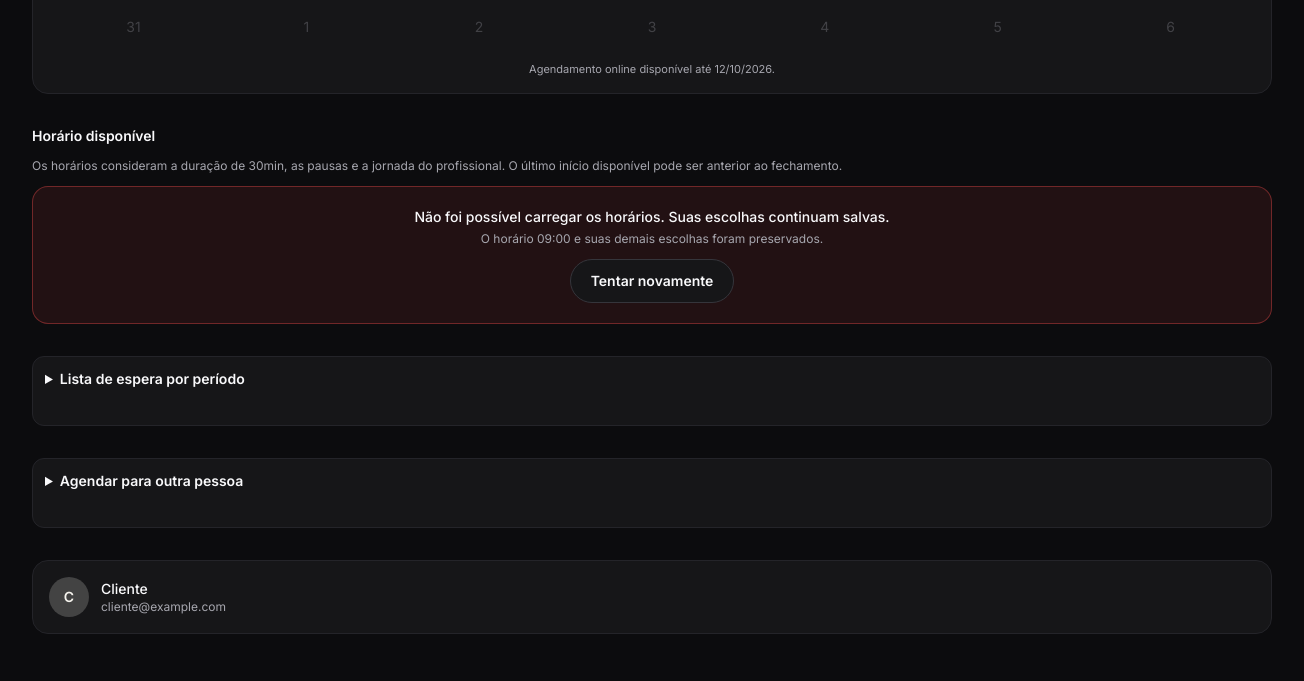
Test: BookingFlow availability › bloqueia o CTA no erro, restaura o slot salvo após retry e o remove se não estiver livre
(page scrolled)
Check: the text "O horário 09:00 e suas demais escolhas foram preservados." is shown, box [481, 231, 823, 246]
Click the button "Tentar novamente". click: [652, 281]
box: [570, 259, 734, 303]
(page scrolled)
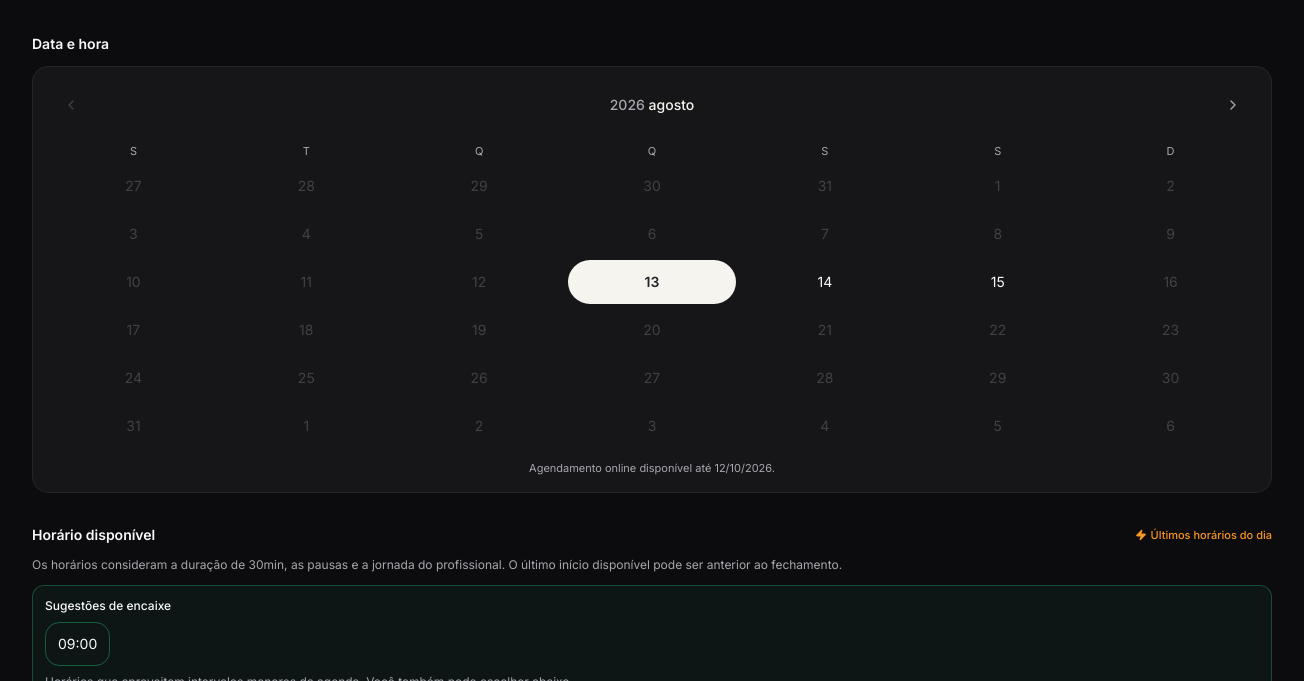
Click the button named "sexta-feira, 14 de agosto de 2026". click: [825, 282]
box: [740, 260, 909, 304]
(page scrolled)
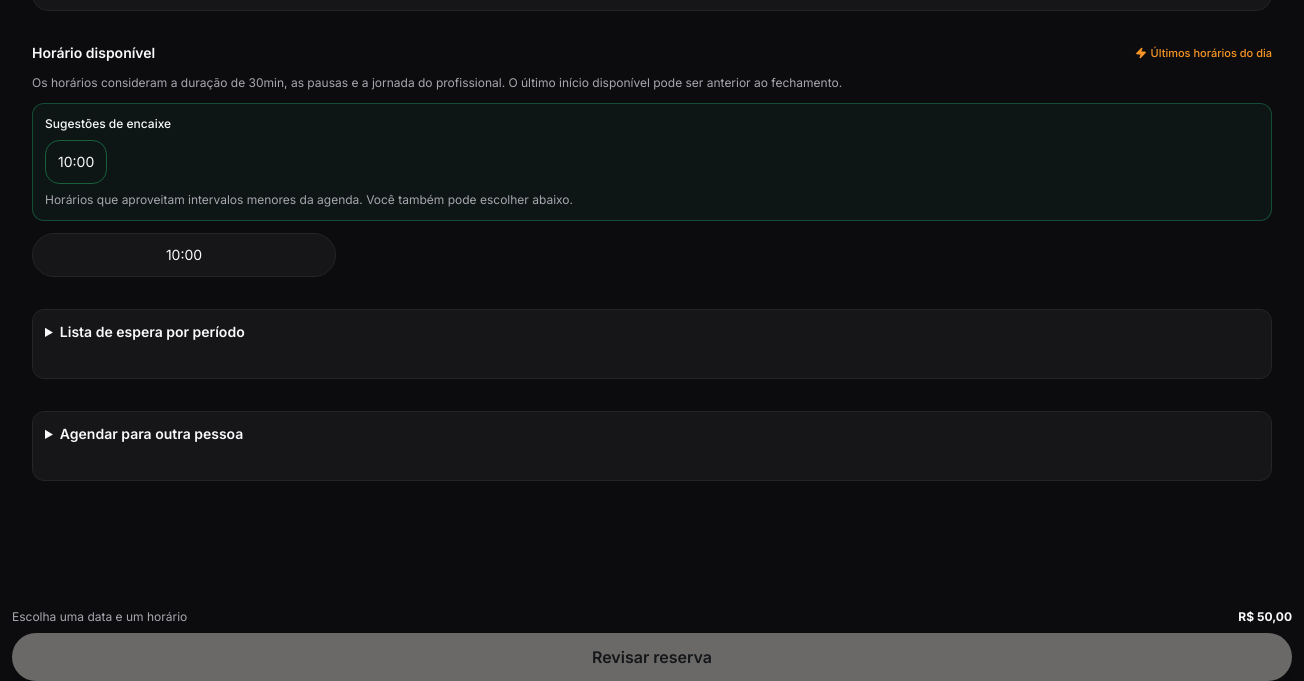
Check: the text "horário 09:00" is not shown
Check: the button named "Horário 10:00" is shown, box [32, 233, 336, 277]
Check: the button "Revisar reserva" is disabled, box [12, 633, 1292, 680]
